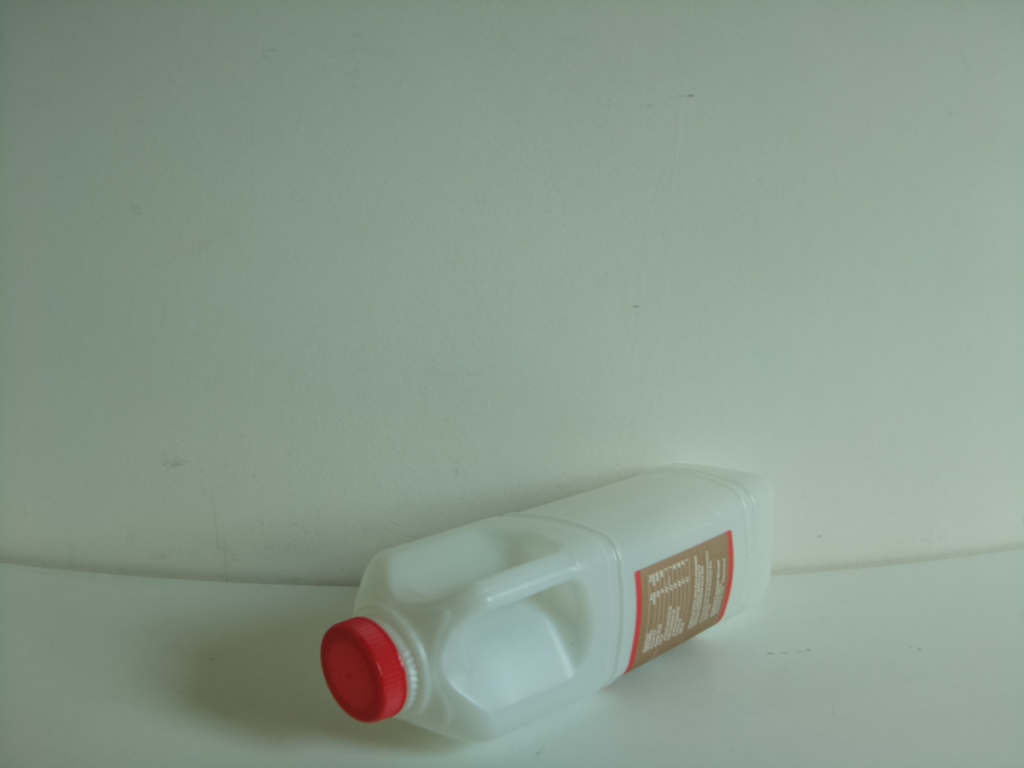milk: (308, 461, 777, 747)
